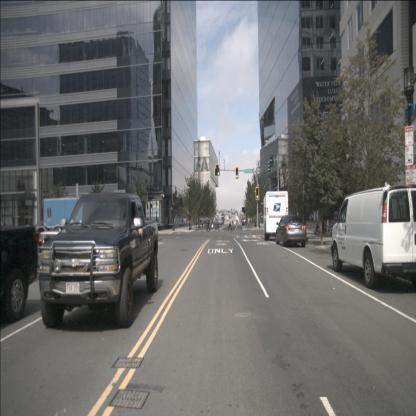human-pedestrian-adult: (215, 214, 220, 232), (206, 216, 211, 232), (228, 216, 233, 231), (166, 216, 168, 230)
vehicle-car: (37, 192, 158, 328), (330, 182, 416, 289), (0, 225, 40, 322), (275, 215, 306, 247), (214, 217, 223, 225), (242, 218, 247, 226)
vehicle-motorcycle: (314, 221, 329, 236)
vehicle-truck: (264, 191, 288, 240)
